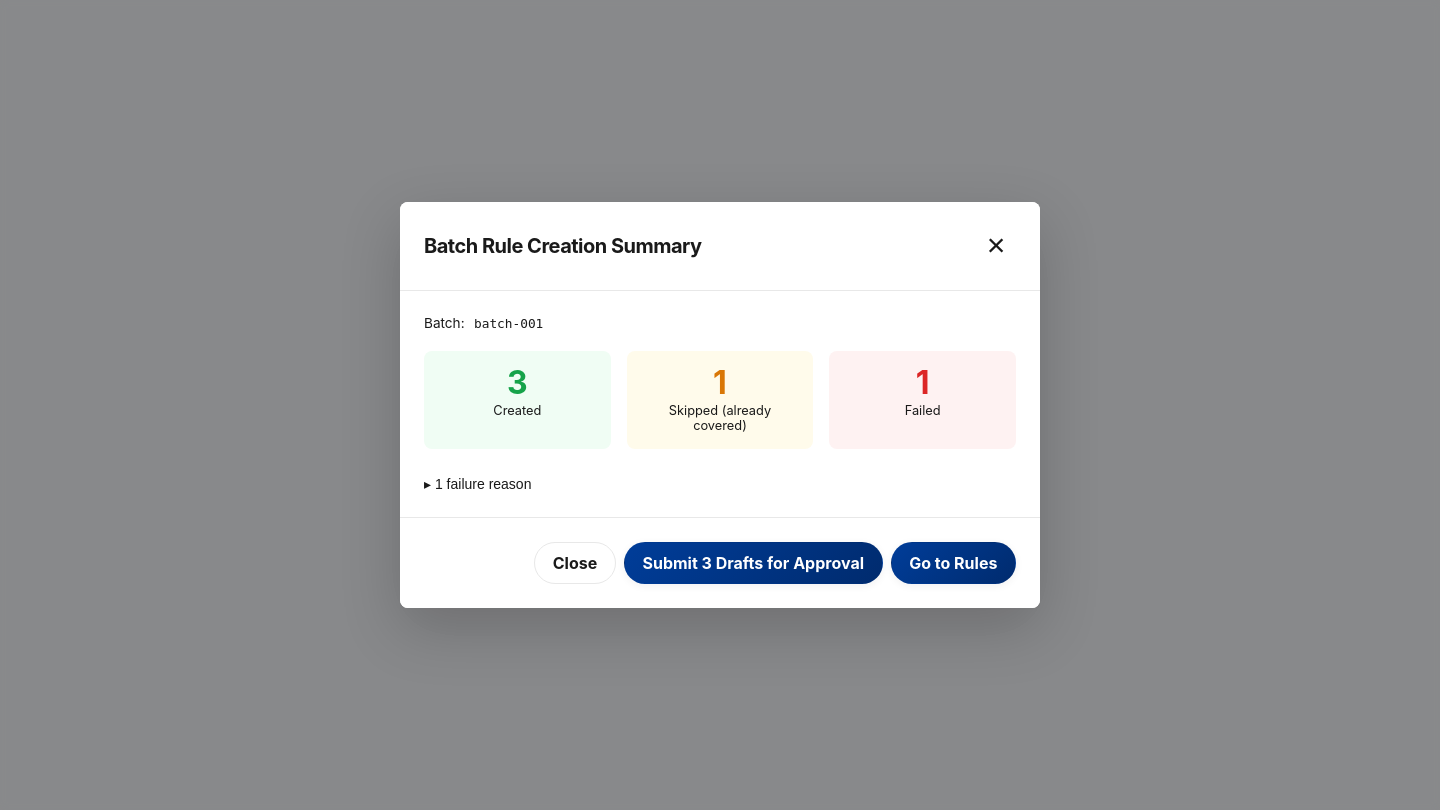
Test: OnboardingBatchSummary › shows success banner after all approvals submitted
Click the button "Submit 3 Drafts for Approval".
click(753, 563)  # box [624, 542, 883, 584]
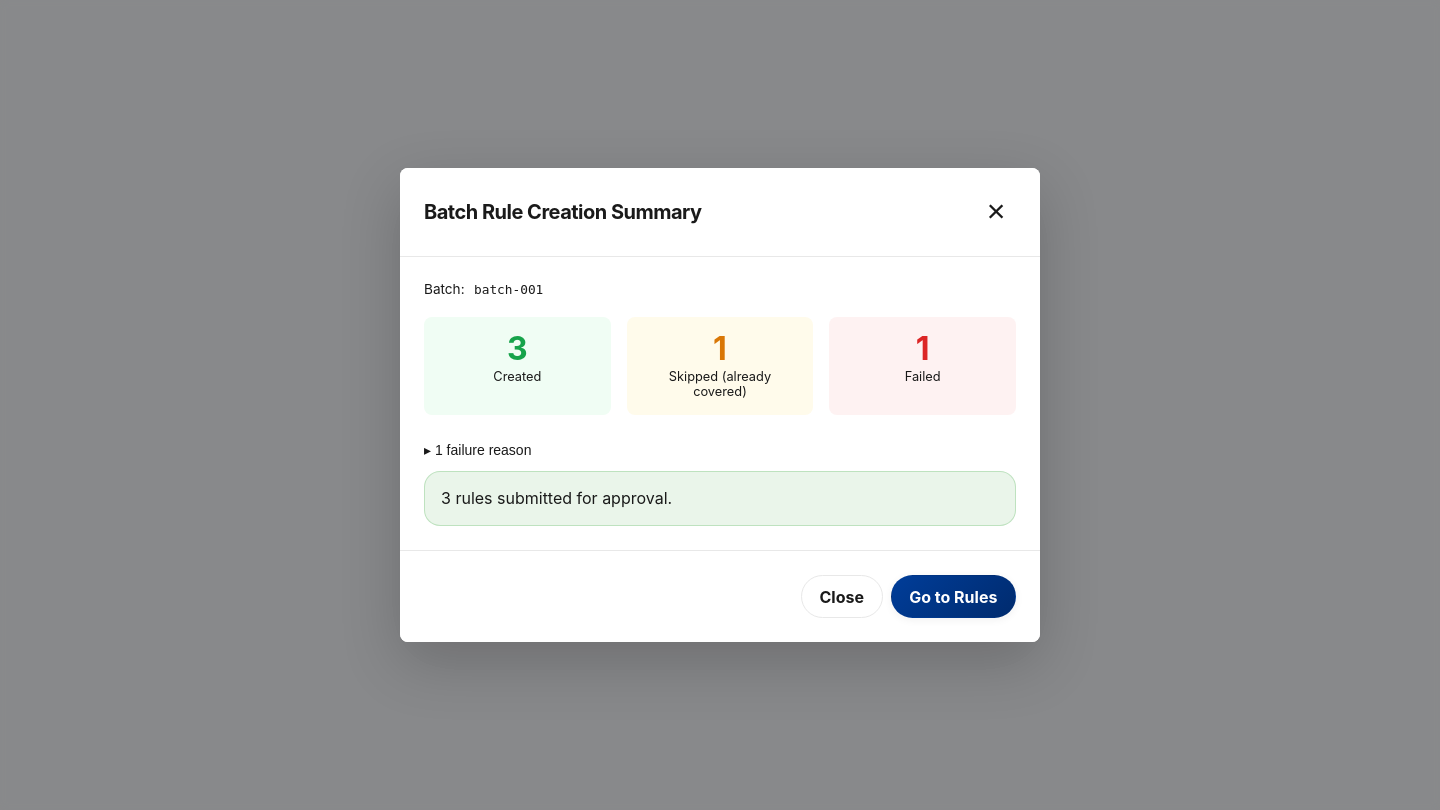
Now the text "3 rules submitted for approval." is shown, box [441, 487, 672, 510]
